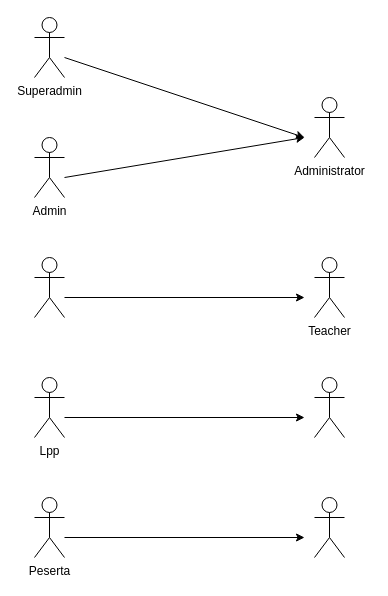
The diagram is 388 pixels wide and 596 high, and some of its shapes have lost their labels. The box of each missing label's shape, as (x1, y1, x2, y2) in pixels:
Course Creator: (314, 376, 344, 438)
Fasilitator: (34, 256, 64, 318)
Student: (314, 496, 344, 558)
